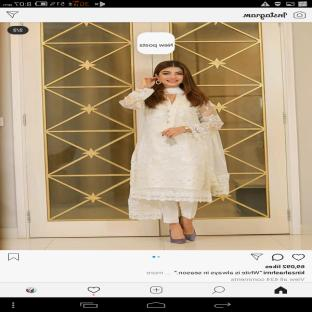Human: (120, 60, 229, 243)
